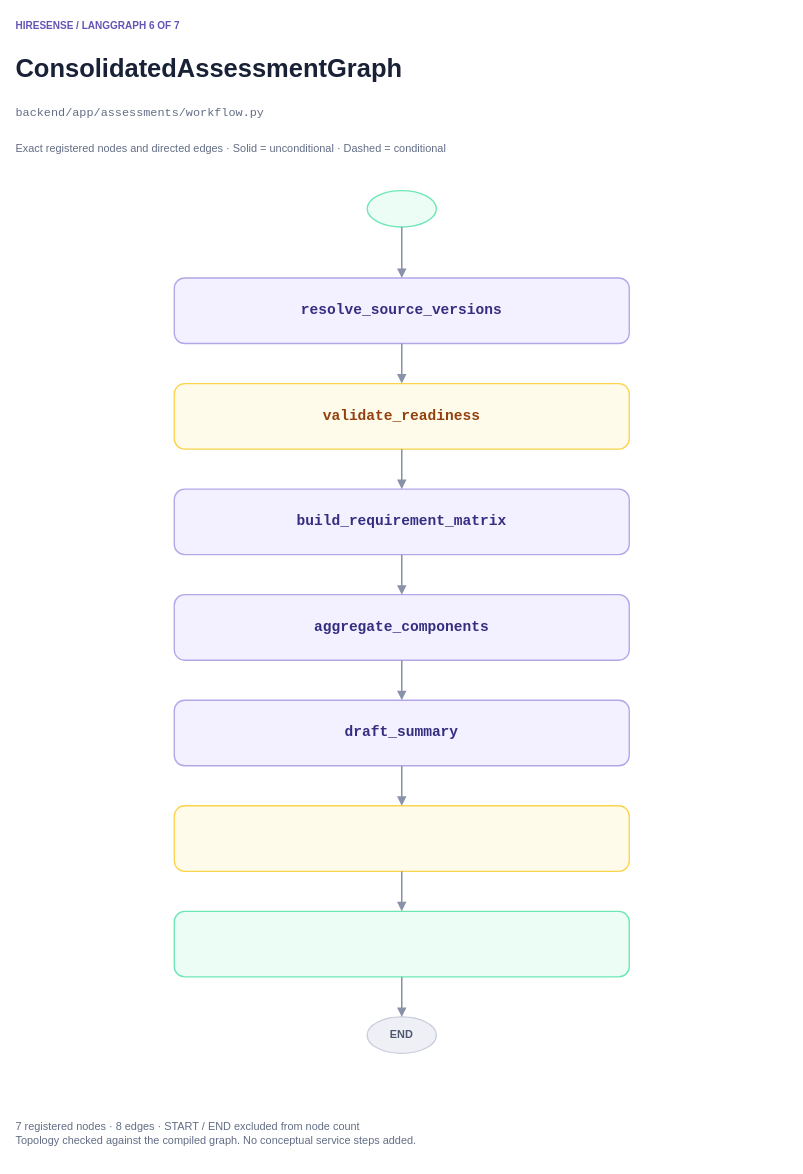
Some shapes in this 803 by 1174 pixel diagram are drawn without their labels. The shapes that lost their labels are listed below. From the top down, each one's centre as x and y in pixels, then its label:
At (401,208): "START".
At (401,838): "validate_claims_citations".
At (401,943): "persist_assessment".
